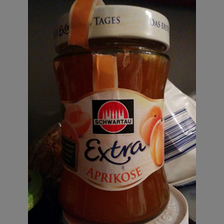jam: (52, 5, 172, 224)
